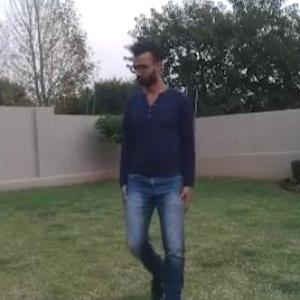follow: (115, 14, 200, 299)
